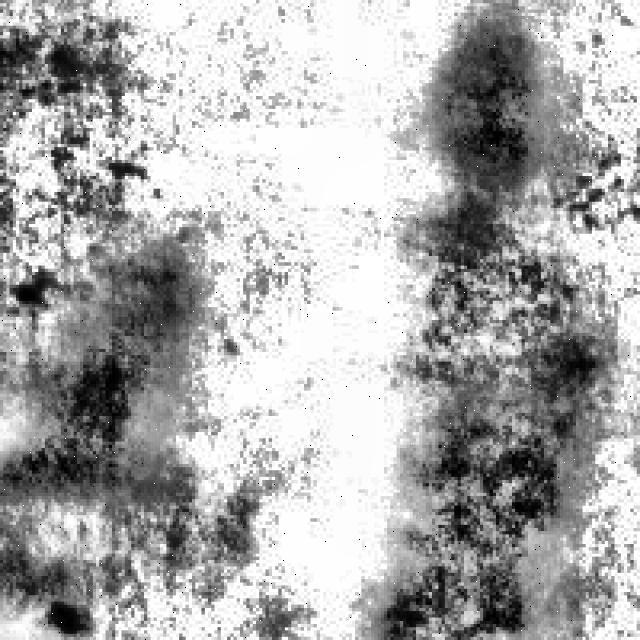Scratches: (368, 323, 605, 637), (3, 233, 202, 500), (428, 28, 554, 185)
